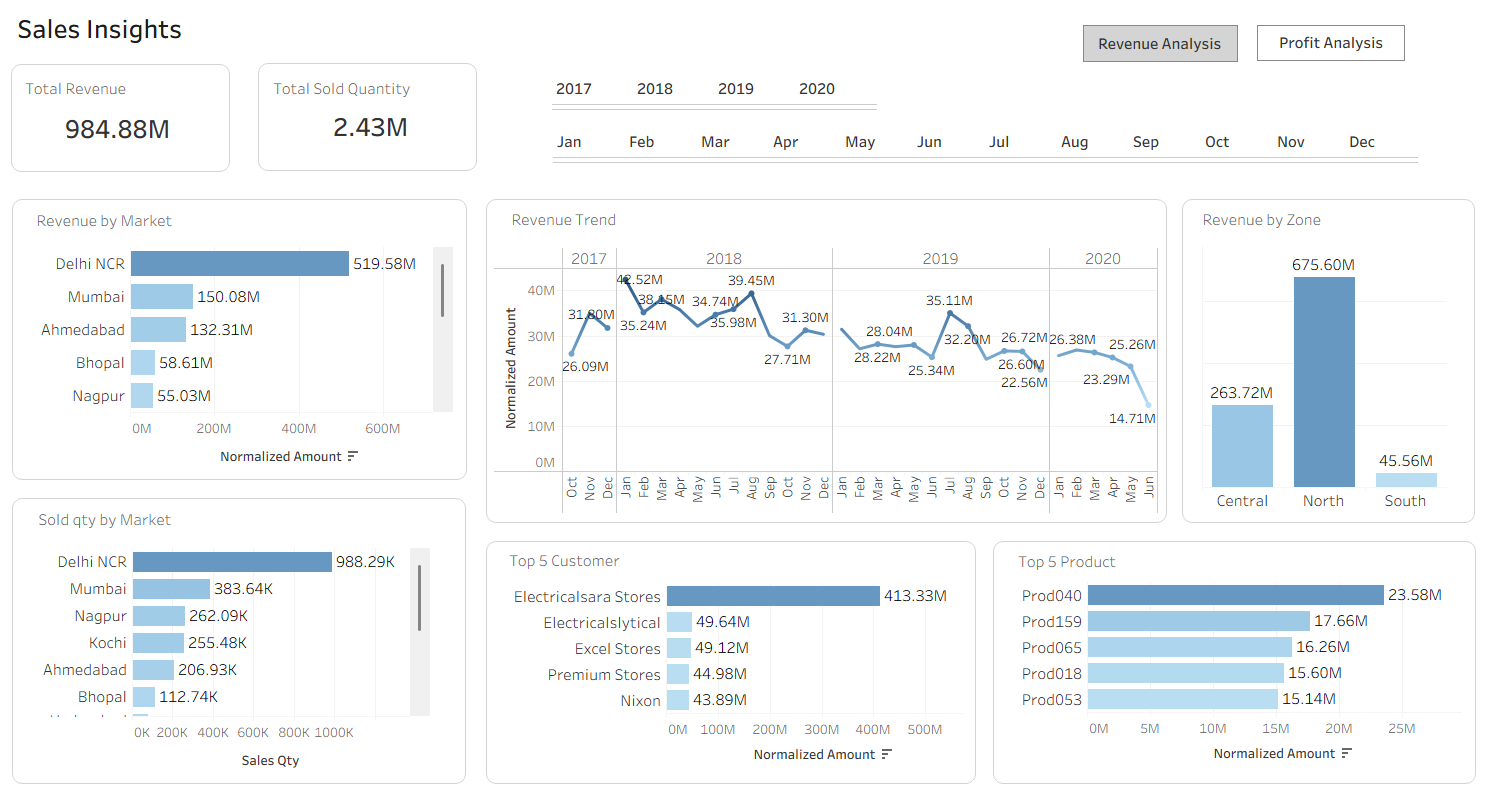

What the dashboard file says about the page in this screenshot:
{"tool":"tableau","page":{"name":"Revenue Analysis","canvas":[1500,800],"ordinal":1},"visuals":[{"type":"text","box":[20,15,206,32]},{"type":"dashboard-object","box":[1089,28,155,37]},{"type":"dashboard-object","box":[1263,28,148,36]},{"type":"blank","box":[264,66,219,108]},{"type":"blank","box":[17,67,219,108]},{"type":"worksheet","title":"year","mark":"Automatic","cols":["cy_date"],"box":[558,75,467,54]},{"type":"text","box":[28,76,108,30]},{"type":"text","box":[276,76,161,30]},{"type":"worksheet","title":"Sales Qty","mark":"Automatic","box":[303,107,157,65]},{"type":"worksheet","title":"Total Revenue","mark":"Automatic","box":[67,111,141,64]},{"type":"worksheet","title":"month","mark":"Automatic","cols":["cy_date"],"box":[559,128,886,59]},{"type":"blank","box":[18,202,455,281]},{"type":"blank","box":[492,202,681,324]},{"type":"blank","box":[1188,202,293,324]},{"type":"text","box":[514,207,155,30]},{"type":"text","box":[1205,207,155,30]},{"type":"text","box":[39,208,155,30]},{"type":"worksheet","title":"Zone Distribution","mark":"Automatic","rows":["Calculation_1414263886893056"],"cols":["zone"],"box":[1208,249,245,266]},{"type":"worksheet","title":"Rev by Mark","mark":"Automatic","rows":["markets_name"],"cols":["Calculation_1414263886893056"],"box":[24,250,435,225]},{"type":"worksheet","title":"Revenue Trend","mark":"Automatic","rows":["Calculation_1414263886893056"],"cols":["cy_date","cy_date"],"box":[500,251,664,266]},{"type":"blank","box":[18,501,454,286]},{"type":"text","box":[41,507,155,30]},{"type":"blank","box":[492,544,490,243]},{"type":"blank","box":[999,544,483,243]},{"type":"text","box":[512,548,155,30]},{"type":"text","box":[1021,549,155,30]},{"type":"worksheet","title":"Sales qty by Mark","mark":"Automatic","rows":["markets_name"],"cols":["sales_qty"],"box":[26,551,438,228]},{"type":"worksheet","title":"Top 5 Prod","mark":"Automatic","rows":["product_code (products)"],"cols":["Calculation_1414263886893056"],"box":[1013,585,455,195]},{"type":"worksheet","title":"Top 5 Cust","mark":"Automatic","rows":["custmer_name"],"cols":["Calculation_1414263886893056"],"box":[500,586,469,193]}]}

Visuals, with their boxes in screenshot pixels (x1, y1, x2, y2), scaled from the page's 1500x800 canvas onto the 1491x795 screenshot:
text: {"x1": 20, "y1": 15, "x2": 225, "y2": 47}
dashboard-object: {"x1": 1082, "y1": 28, "x2": 1237, "y2": 65}
dashboard-object: {"x1": 1255, "y1": 28, "x2": 1403, "y2": 64}
blank: {"x1": 262, "y1": 66, "x2": 480, "y2": 173}
blank: {"x1": 17, "y1": 67, "x2": 235, "y2": 174}
"year" worksheet: {"x1": 555, "y1": 75, "x2": 1019, "y2": 128}
text: {"x1": 28, "y1": 76, "x2": 135, "y2": 105}
text: {"x1": 274, "y1": 76, "x2": 434, "y2": 105}
"Sales Qty" worksheet: {"x1": 301, "y1": 106, "x2": 457, "y2": 171}
"Total Revenue" worksheet: {"x1": 67, "y1": 110, "x2": 207, "y2": 174}
"month" worksheet: {"x1": 556, "y1": 127, "x2": 1436, "y2": 186}
blank: {"x1": 18, "y1": 201, "x2": 470, "y2": 480}
blank: {"x1": 489, "y1": 201, "x2": 1166, "y2": 523}
blank: {"x1": 1181, "y1": 201, "x2": 1472, "y2": 523}
text: {"x1": 511, "y1": 206, "x2": 665, "y2": 236}
text: {"x1": 1198, "y1": 206, "x2": 1352, "y2": 236}
text: {"x1": 39, "y1": 207, "x2": 193, "y2": 237}
"Zone Distribution" worksheet: {"x1": 1201, "y1": 247, "x2": 1444, "y2": 512}
"Rev by Mark" worksheet: {"x1": 24, "y1": 248, "x2": 456, "y2": 472}
"Revenue Trend" worksheet: {"x1": 497, "y1": 249, "x2": 1157, "y2": 514}
blank: {"x1": 18, "y1": 498, "x2": 469, "y2": 782}
text: {"x1": 41, "y1": 504, "x2": 195, "y2": 534}
blank: {"x1": 489, "y1": 541, "x2": 976, "y2": 782}
blank: {"x1": 993, "y1": 541, "x2": 1473, "y2": 782}
text: {"x1": 509, "y1": 545, "x2": 663, "y2": 574}
text: {"x1": 1015, "y1": 546, "x2": 1169, "y2": 575}
"Sales qty by Mark" worksheet: {"x1": 26, "y1": 548, "x2": 461, "y2": 774}
"Top 5 Prod" worksheet: {"x1": 1007, "y1": 581, "x2": 1459, "y2": 775}
"Top 5 Cust" worksheet: {"x1": 497, "y1": 582, "x2": 963, "y2": 774}
